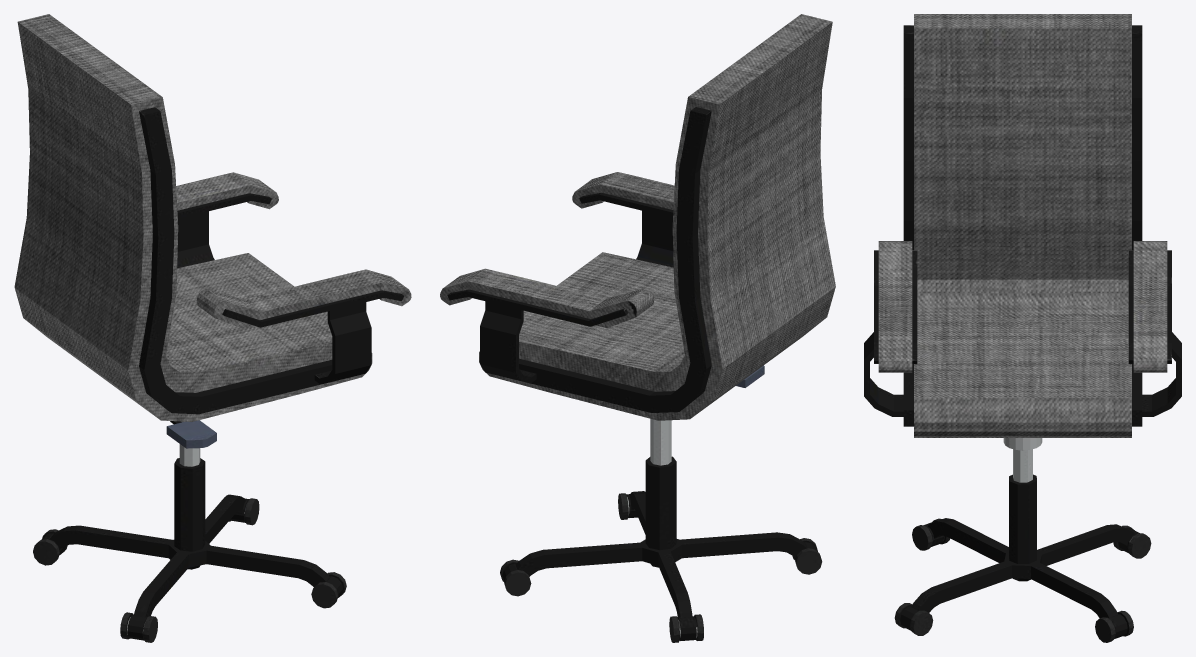
Rendered from silla_esc.obj.
The picture shows the model from 3 angles, left to right: view 1: azimuth 30°, elevation 25°; view 2: azimuth 150°, elevation 25°; view 3: azimuth 270°, elevation 25°; orthographic projection. The views are drawn at different scales.
Parts seen in each view (by area): view 1: kursiKantor; view 2: kursiKantor; view 3: kursiKantor.
Boxes of the visible parts, x1,y1,x2,y2 form: kursiKantor: (14, 14, 411, 642); kursiKantor: (440, 14, 835, 642); kursiKantor: (864, 14, 1181, 642).
Size of the model in its own units: 246 by 484 by 266.
1 material, 1 textured.
